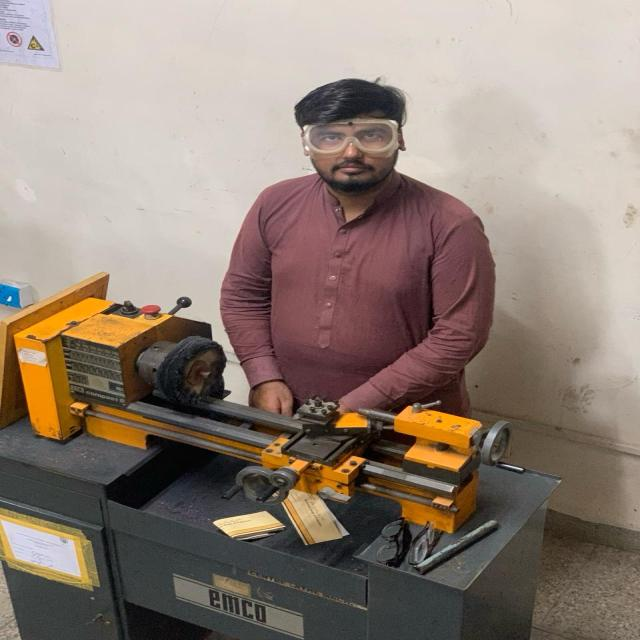googles: (302, 116, 402, 156)
